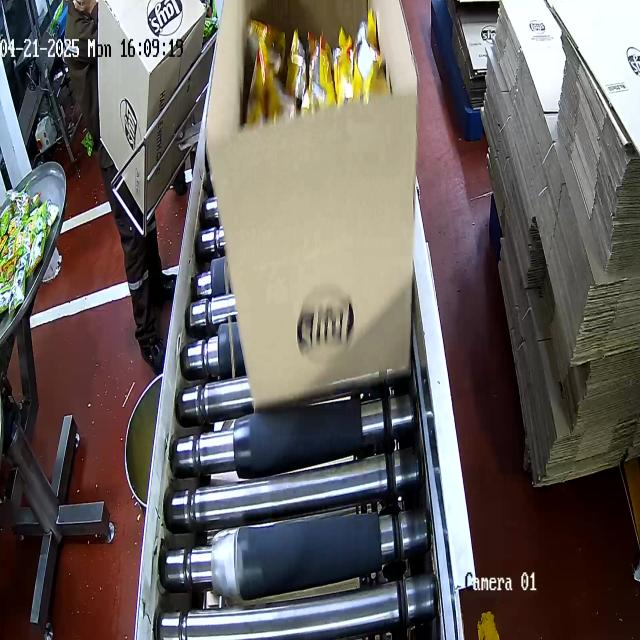SALTED: (245, 0, 394, 117)
